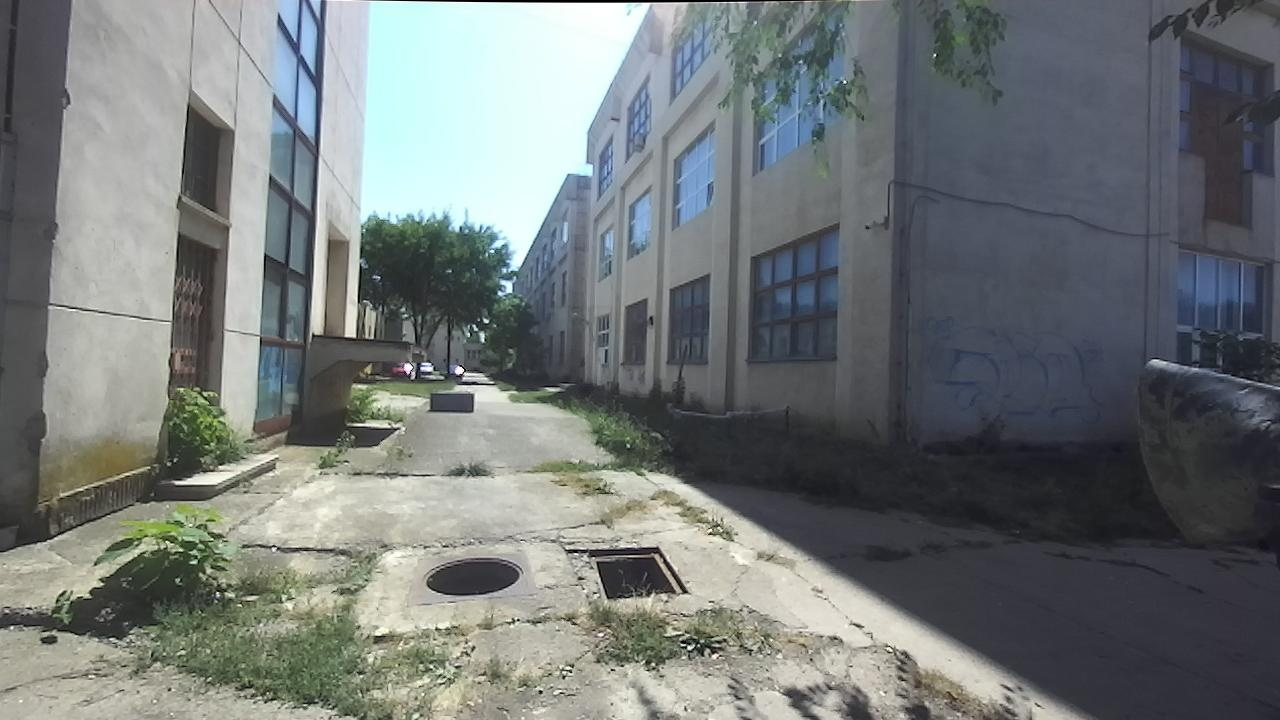drain: (582, 542, 694, 600), (415, 552, 530, 599)
